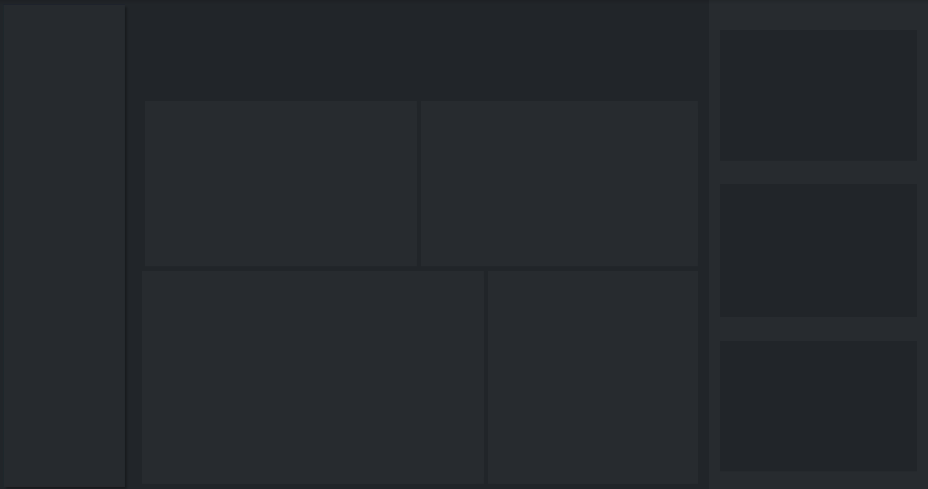

The dashboard page shown, as its layout file describes it:
{"tool":"powerbi","page":{"name":"Customer Relations","canvas":[1280,720],"ordinal":0},"visuals":[{"type":"textbox","box":[191.1,66.1,590.7,57.5],"z":0},{"type":"pageNavigator","box":[168.1,110.7,639.5,50.3],"z":1000},{"type":"barChart","fields":{"Y":["Sum(Sheet2.Quantity)"],"Series":["Sheet2.Customer Title"],"Category":["Sheet2.Item Title"]},"box":[202.6,195.4,753.1,198.3],"z":2000},{"type":"textbox","box":[214.1,163.8,517.4,46],"z":3000},{"type":"columnChart","fields":{"Y":["Sum(Sheet2.Gross Amount)"],"Series":["Sheet2.Item Title"],"Category":["Sheet2.Unit Title"]},"box":[678.3,393.8,277.4,290.3],"z":4000},{"type":"kpi","fields":{"Indicator":["Sum(Sheet5.Gross Amount)"],"TrendLine":["Sheet5.Currency Title"]},"box":[985.9,66.1,277.4,165.3],"z":5000},{"type":"kpi","fields":{"Indicator":["Sum(Sheet5.Gross Amount)"],"TrendLine":["Sheet5.Category Title"]},"box":[993.1,284.6,264.4,171],"z":6000},{"type":"kpi","fields":{"Indicator":["Sum(Sheet5.Quantity)"],"TrendLine":["Sheet5.Class Title"]},"box":[993.1,488.6,261.6,181.1],"z":7000},{"type":"columnChart","fields":{"Category":["Sheet6.City"],"Y":["Sum(Sheet6.qty)"],"Series":["Sheet6.Customer"]},"box":[198.3,441.2,464.2,242.9],"z":8000},{"type":"textbox","box":[198.3,393.8,399.5,44.6],"z":9000},{"type":"textbox","box":[678.3,393.8,270.2,54.6],"z":10000}]}

Visuals, with their boxes on the page's 1280x720 design canvas (x1, y1, x2, y2). These are canvas units, not pixel positions in the 928x489 screenshot, which may show the page scaled, cropped or inside an application window:
textbox: [191, 66, 782, 124]
pageNavigator: [168, 111, 808, 161]
barChart - Sum(Sheet2.Quantity) x Sheet2.Customer Title: [203, 195, 956, 394]
textbox: [214, 164, 732, 210]
columnChart - Sum(Sheet2.Gross Amount) x Sheet2.Item Title: [678, 394, 956, 684]
kpi - Sum(Sheet5.Gross Amount) x Sheet5.Currency Title: [986, 66, 1263, 231]
kpi - Sum(Sheet5.Gross Amount) x Sheet5.Category Title: [993, 285, 1258, 456]
kpi - Sum(Sheet5.Quantity) x Sheet5.Class Title: [993, 489, 1255, 670]
columnChart - Sheet6.City x Sum(Sheet6.qty): [198, 441, 662, 684]
textbox: [198, 394, 598, 438]
textbox: [678, 394, 948, 448]
